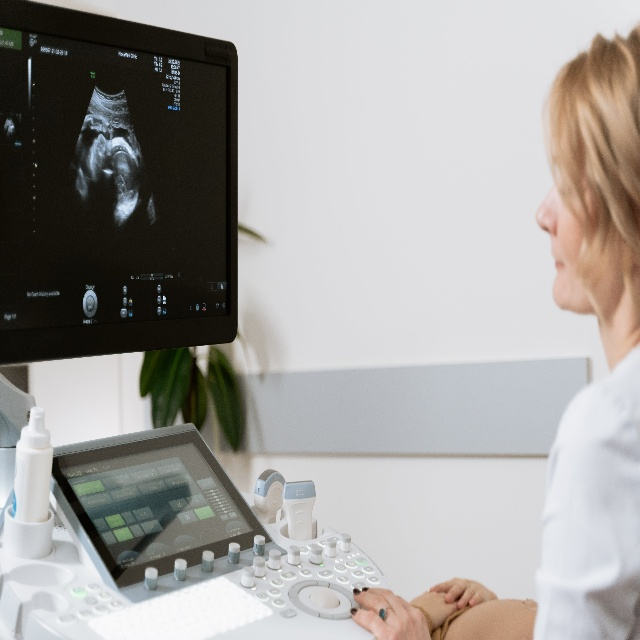Sin_guantes: (351, 582, 432, 640), (430, 574, 495, 611)
